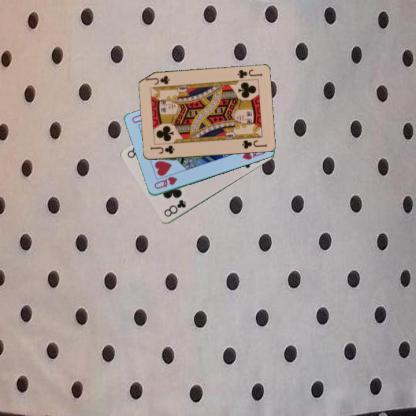8c: (161, 196, 187, 218)
Jc: (234, 67, 263, 80), (148, 143, 176, 155)
Qh: (152, 174, 178, 190)
